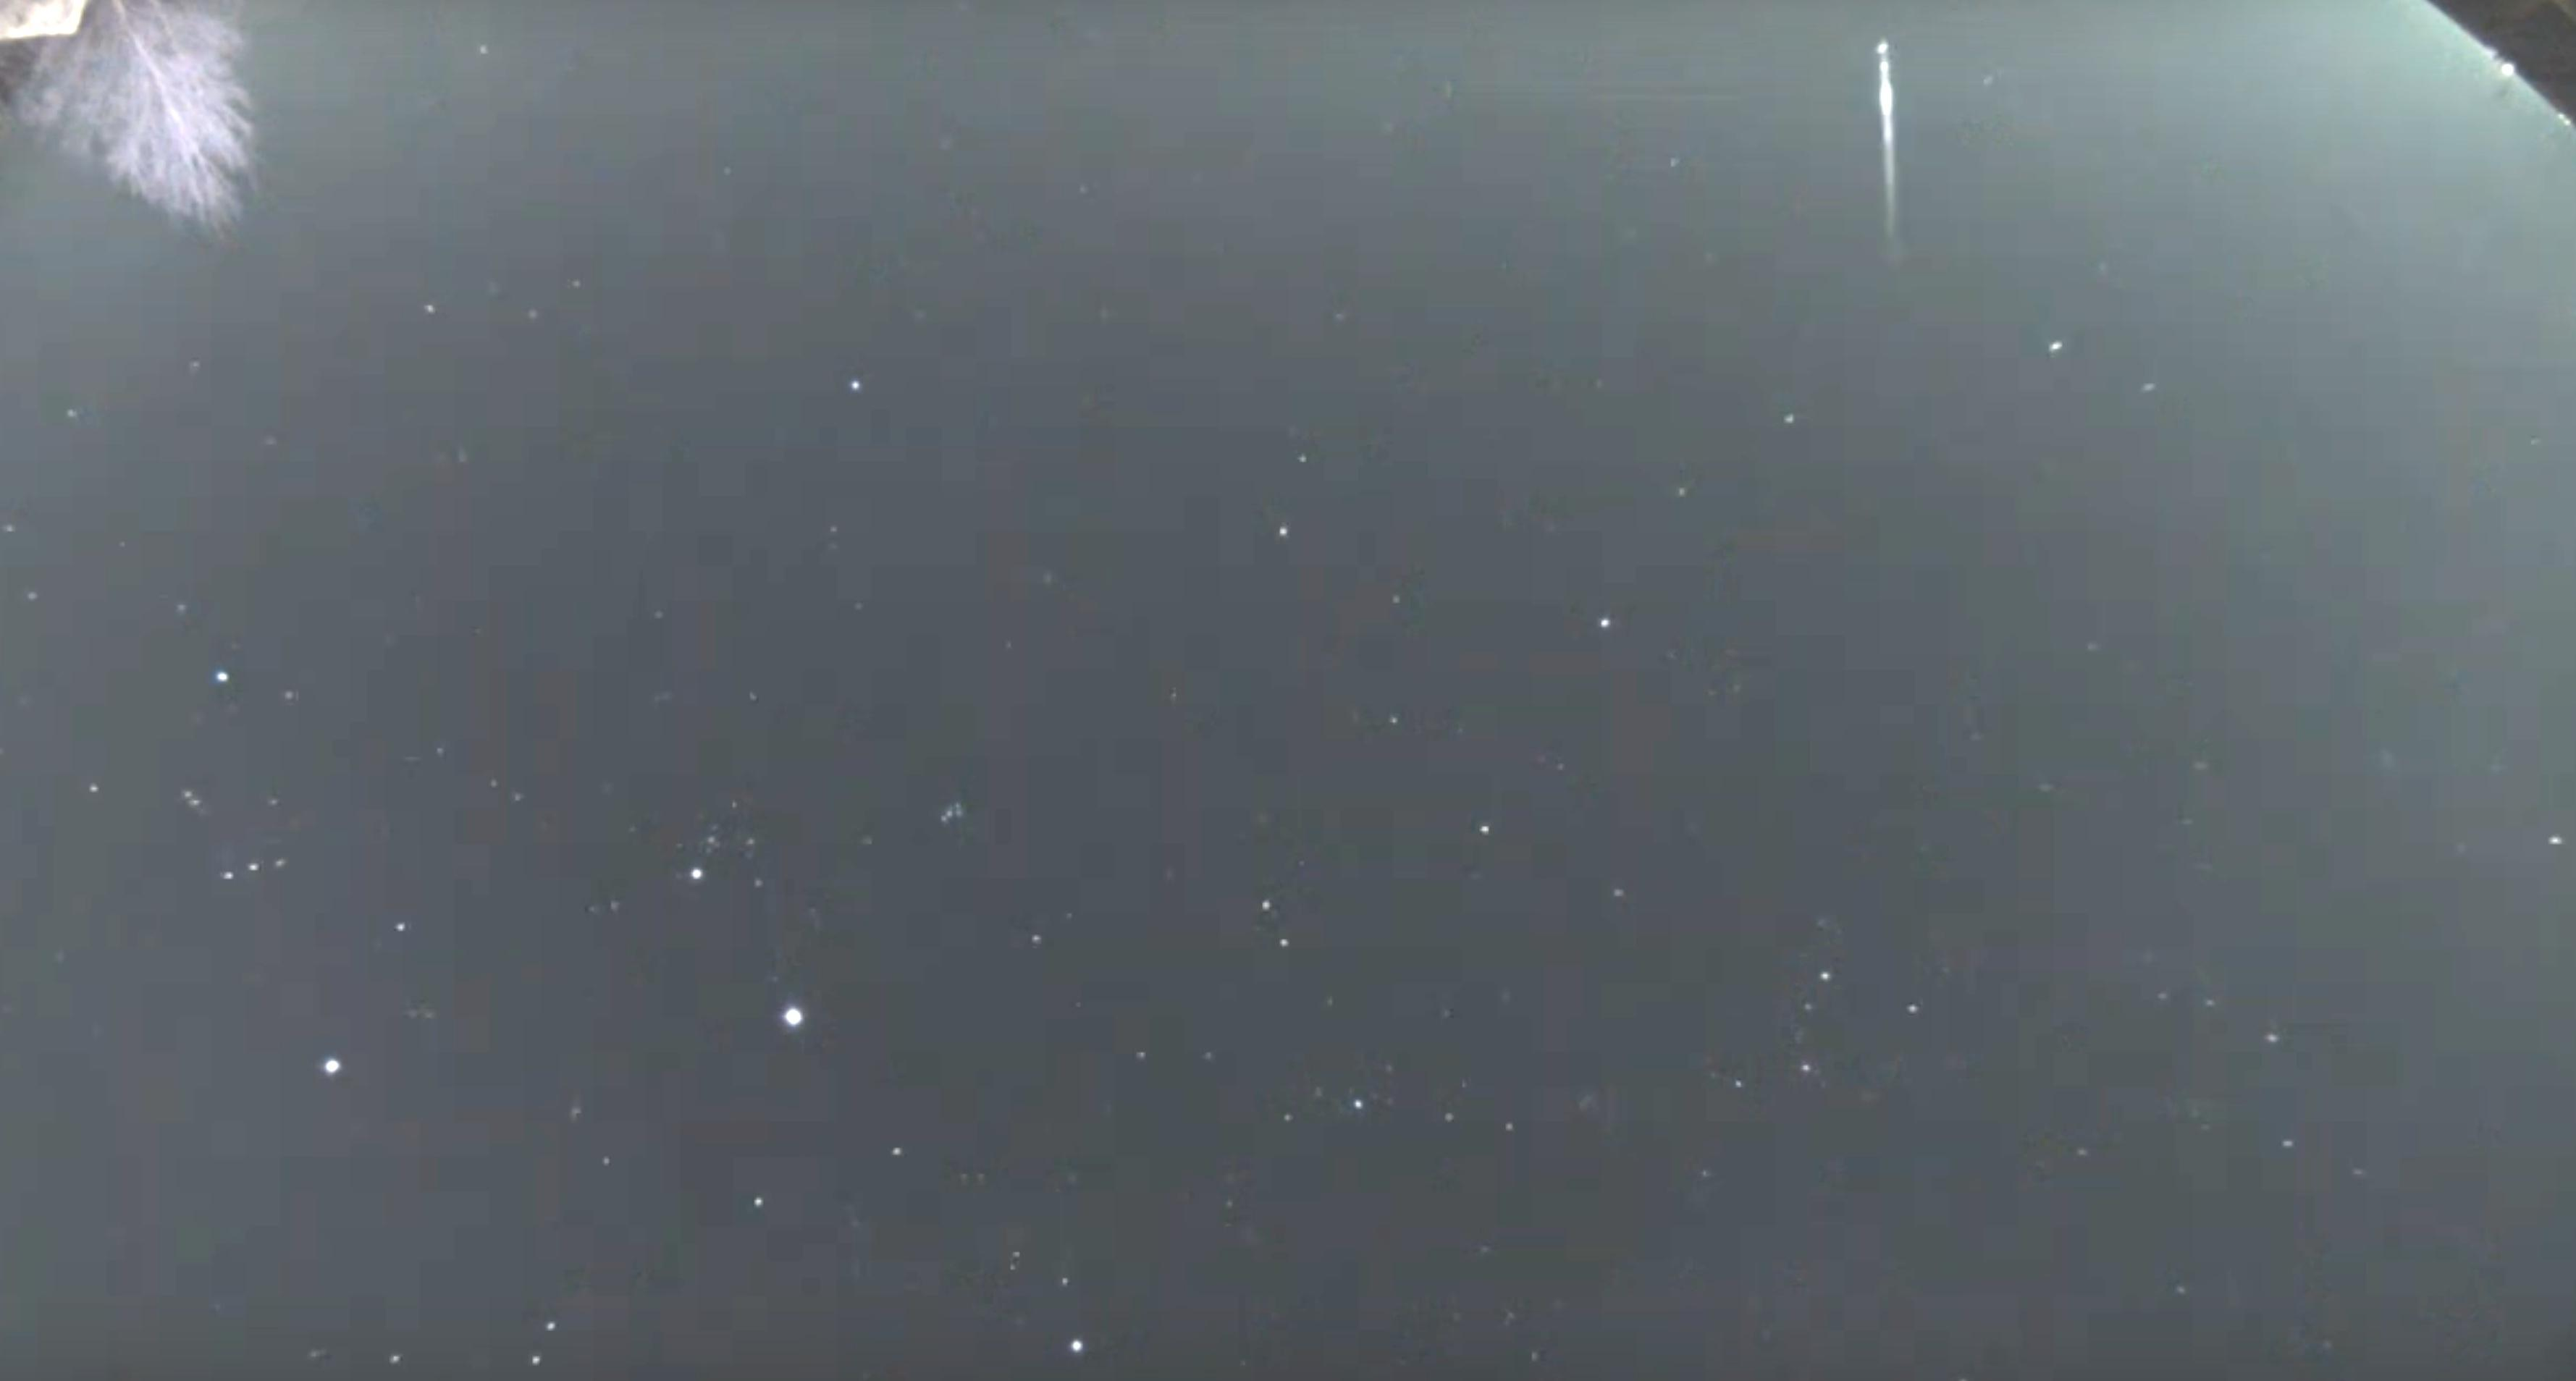meteorite: (1821, 27, 1958, 226)
